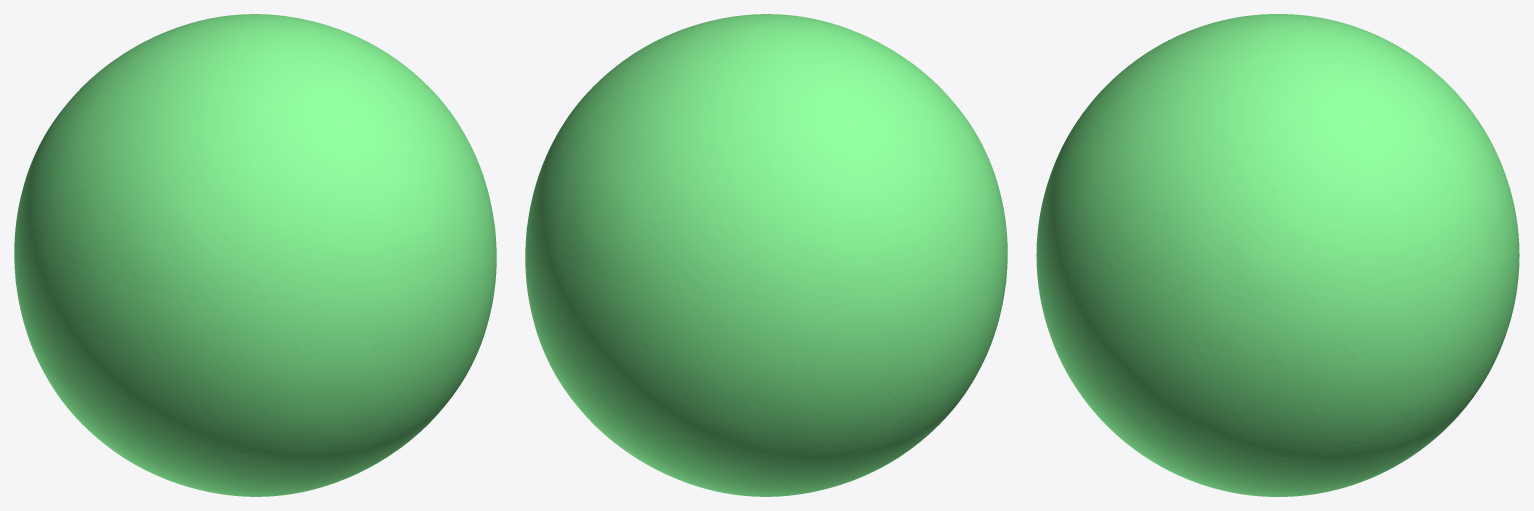
The picture shows the model from 3 angles, left to right: view 1: azimuth 30°, elevation 25°; view 2: azimuth 150°, elevation 25°; view 3: azimuth 270°, elevation 25°; orthographic projection.
Parts seen in each view (by area): view 1: Spikes; view 2: Spikes; view 3: Spikes.
Boxes of the visible parts, x1=… form: Spikes: x1=14, y1=14, x2=496, y2=496; Spikes: x1=525, y1=14, x2=1007, y2=496; Spikes: x1=1036, y1=14, x2=1519, y2=496.
Bounding box in the file's own units: 1.96 × 1.97 × 1.96.
